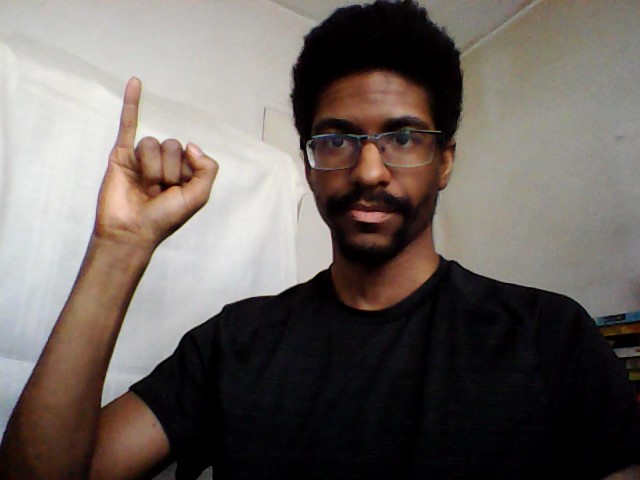i: (93, 67, 221, 253)
